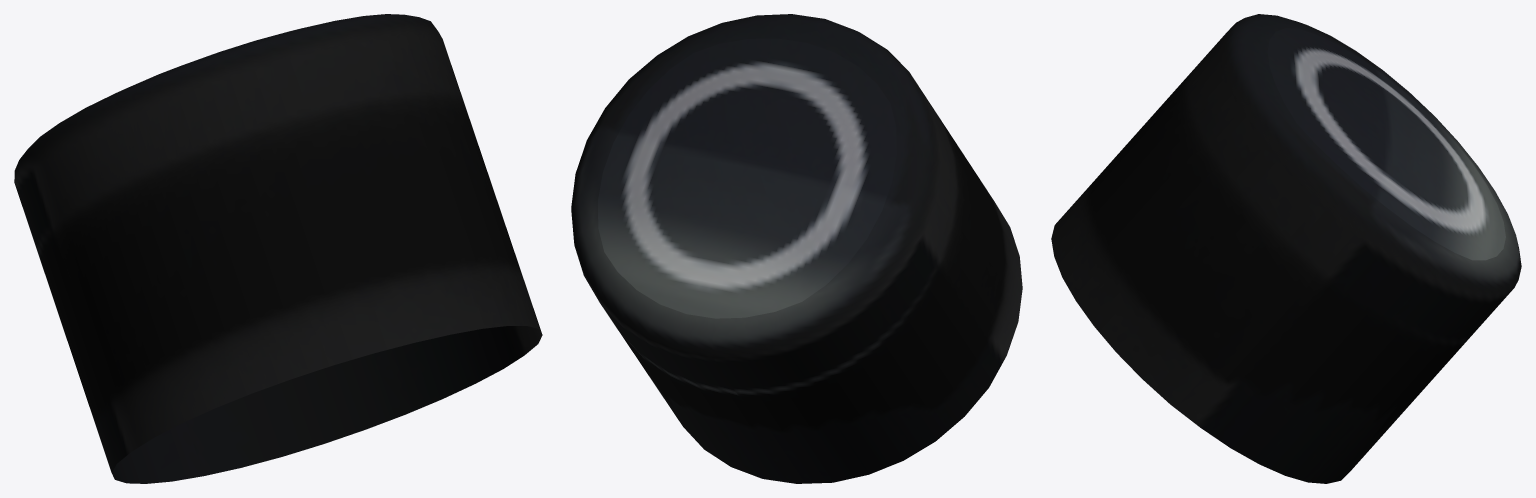
Rendered from playstation_vr2_sense_right_circle.obj.
The picture shows the model from 3 angles, left to right: view 1: azimuth 30°, elevation 25°; view 2: azimuth 150°, elevation 25°; view 3: azimuth 270°, elevation 25°; orthographic projection. The views are drawn at different scales.
Parts seen in each view (by area): view 1: mesh_circle_button_R; view 2: mesh_circle_button_R; view 3: mesh_circle_button_R.
Part boxes in pixels (<box>): mesh_circle_button_R: <box>14,14,542,483</box>; mesh_circle_button_R: <box>571,14,1022,483</box>; mesh_circle_button_R: <box>1051,14,1521,483</box>.
Size of the model in its own units: 0.00761 by 0.00903 by 0.00923.
Materials: 1 (1 with a texture image).
